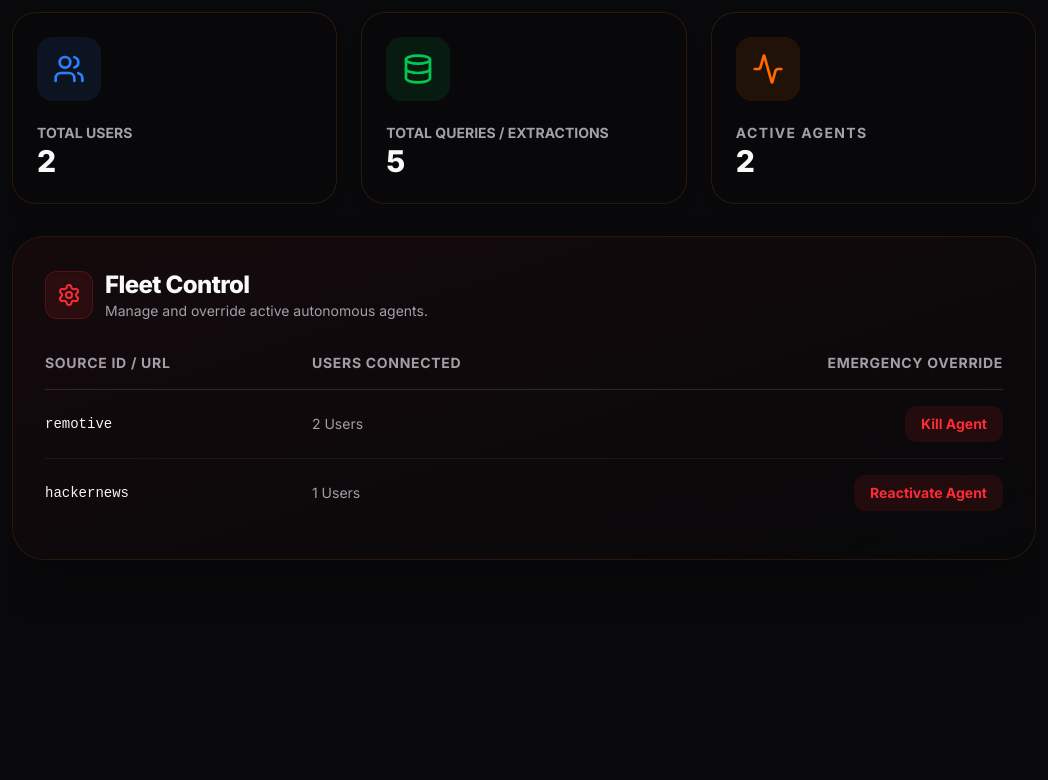
AdminDashboardContent › shows an empty state when there are no registered users
The width and height of the screenshot is (1048, 780).
Click the text "Total Users".
click(85, 132)  # box [37,124,132,141]
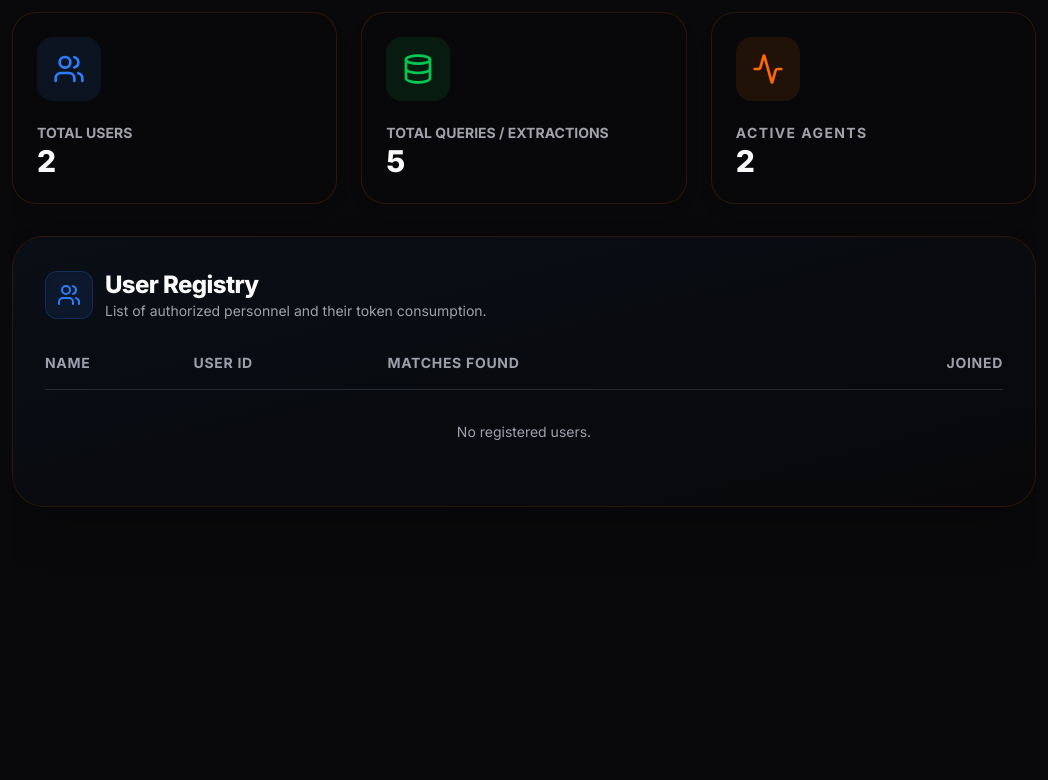
Check: the text "No registered users." is shown, box [45,390,1003,474]
